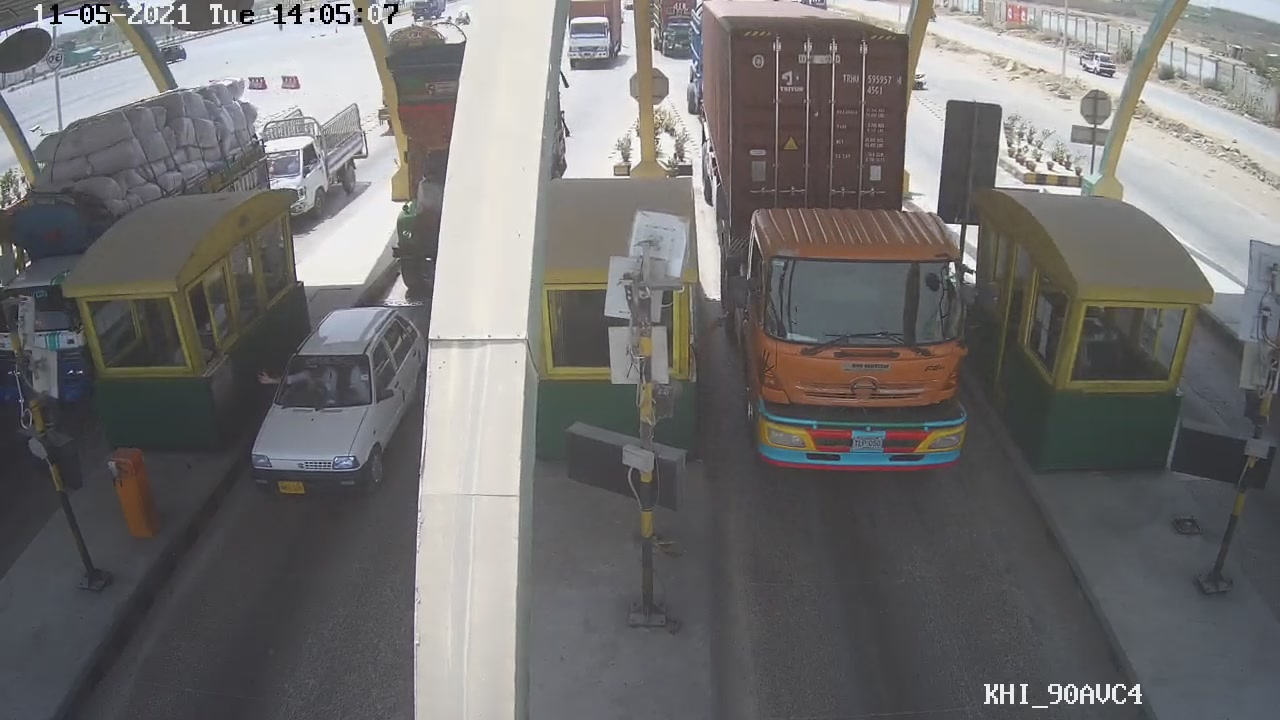F6: (696, 17, 986, 471)
